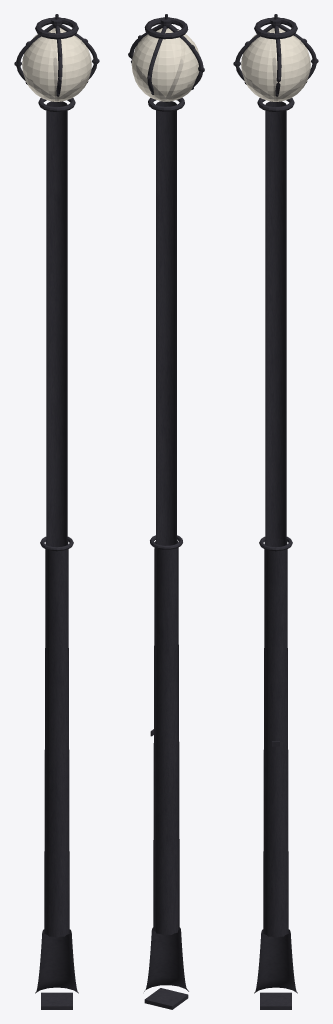
File: cp_lamppost.glb
3 views of the same model, side by side, from view 1: azimuth 90°, elevation 25°; view 2: azimuth 150°, elevation 25°; view 3: azimuth 270°, elevation 25° (orthographic).
Visible parts, largest first — view 1: CP_Lamppost, CP_Lamppost_Globe; view 2: CP_Lamppost, CP_Lamppost_Globe; view 3: CP_Lamppost, CP_Lamppost_Globe.
Boxes of the visible parts, <box> form: CP_Lamppost: <box>14,14,99,1009</box>; CP_Lamppost_Globe: <box>22,28,91,101</box>; CP_Lamppost: <box>128,14,204,1009</box>; CP_Lamppost_Globe: <box>131,28,199,101</box>; CP_Lamppost: <box>233,14,318,1009</box>; CP_Lamppost_Globe: <box>241,28,310,101</box>.
Bounding box in the file's own units: 0.3179 × 4.06 × 0.3179.
Materials: 2 (1 with a texture image).
